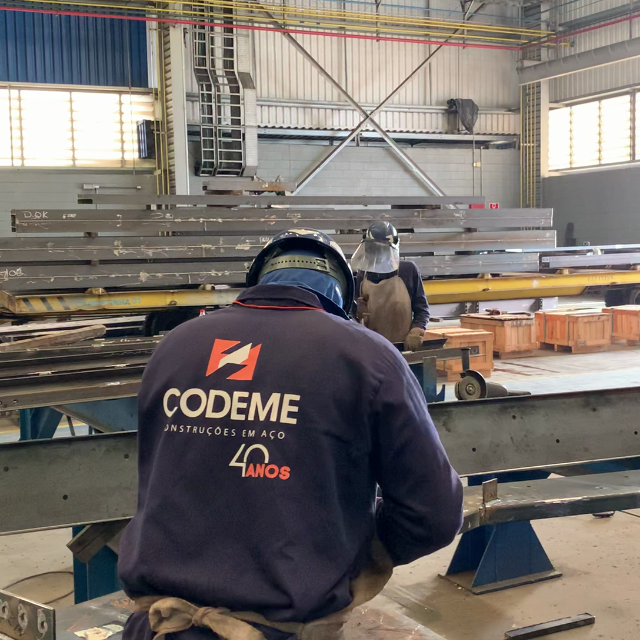face-shield: (349, 242, 399, 275)
helmet: (244, 228, 356, 318), (367, 219, 398, 245)
person: (108, 225, 466, 617), (346, 217, 436, 354)
